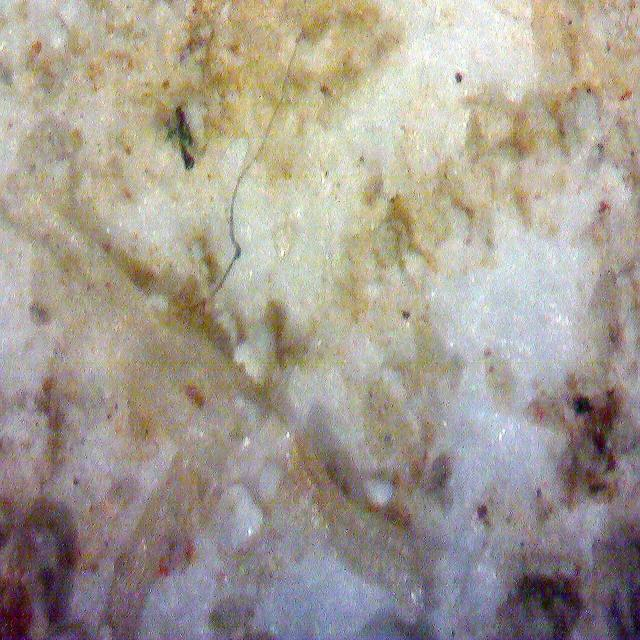microplastic: (216, 26, 304, 289)
